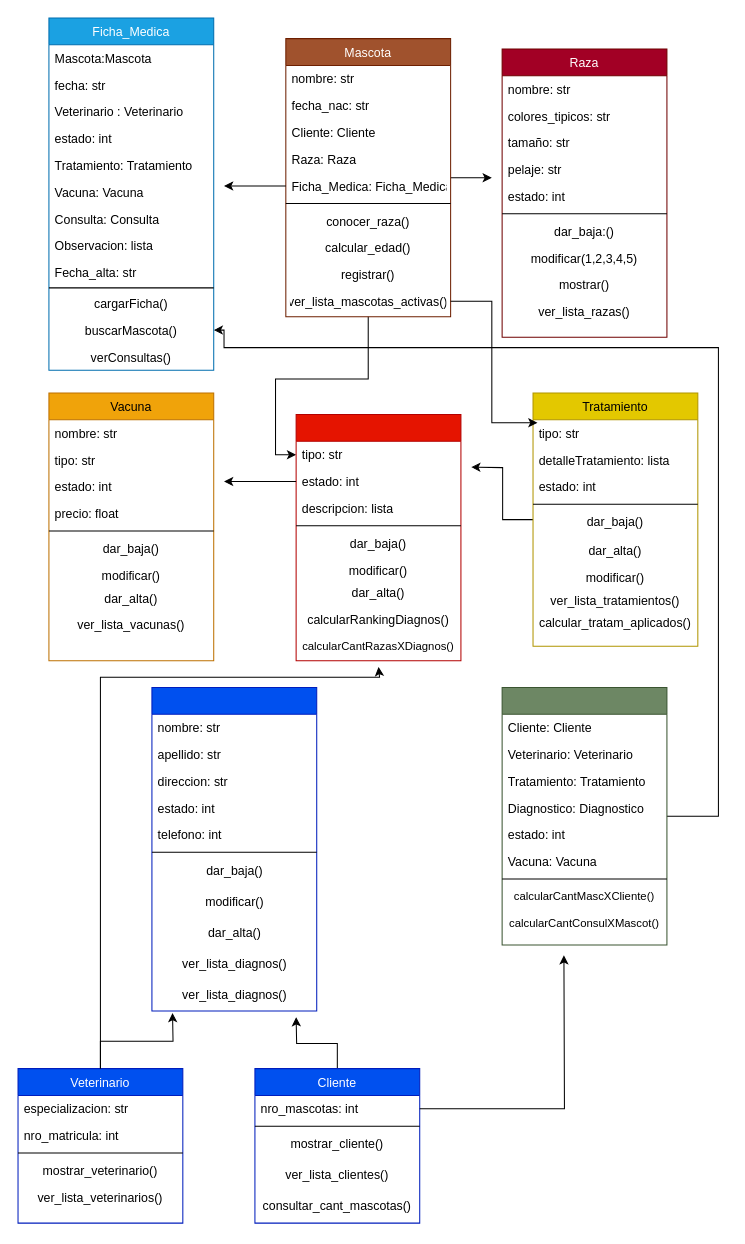
Some shapes in this 745 by 1244 pixel diagram are drawn without their labels. Each missing label, with the box of its shape:
Consulta: (501, 686, 667, 945)
Diagnostico: (295, 414, 461, 661)
Persona: (151, 686, 317, 1011)
